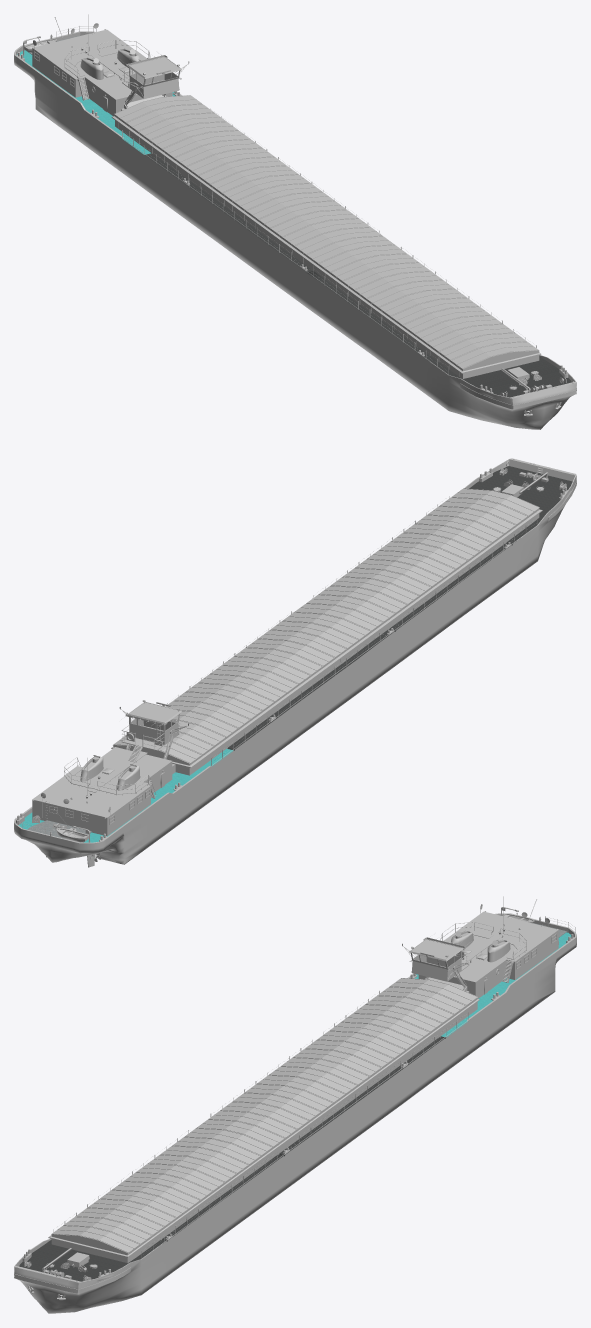
The model's file is BS_Diane.fbx.
3 views of the same model, one above another, from view 1: azimuth 30°, elevation 25°; view 2: azimuth 150°, elevation 25°; view 3: azimuth 330°, elevation 25° (orthographic).
Visible parts, largest first — view 1: aufbauten@LOD-0, rumpf@LOD-0, deck@LOD-0, bruecke@LOD-0; view 2: aufbauten@LOD-0, rumpf@LOD-0, deck@LOD-0, bruecke@LOD-0; view 3: aufbauten@LOD-0, rumpf@LOD-0, deck@LOD-0, bruecke@LOD-0.
Boxes of the visible parts, left/top/right/bottom form: aufbauten@LOD-0: left=32, top=14, right=541, bottom=378; rumpf@LOD-0: left=14, top=31, right=576, bottom=429; deck@LOD-0: left=17, top=17, right=573, bottom=397; bruecke@LOD-0: left=120, top=55, right=189, bottom=103; aufbauten@LOD-0: left=32, top=488, right=542, bottom=835; rumpf@LOD-0: left=14, top=458, right=576, bottom=867; deck@LOD-0: left=15, top=458, right=574, bottom=842; bruecke@LOD-0: left=119, top=700, right=188, bottom=762; aufbauten@LOD-0: left=48, top=896, right=558, bottom=1262; rumpf@LOD-0: left=14, top=913, right=576, bottom=1313; deck@LOD-0: left=16, top=899, right=575, bottom=1281; bruecke@LOD-0: left=402, top=936, right=471, bottom=986.
Size of the model in its own units: 1152 by 1106 by 11005.
